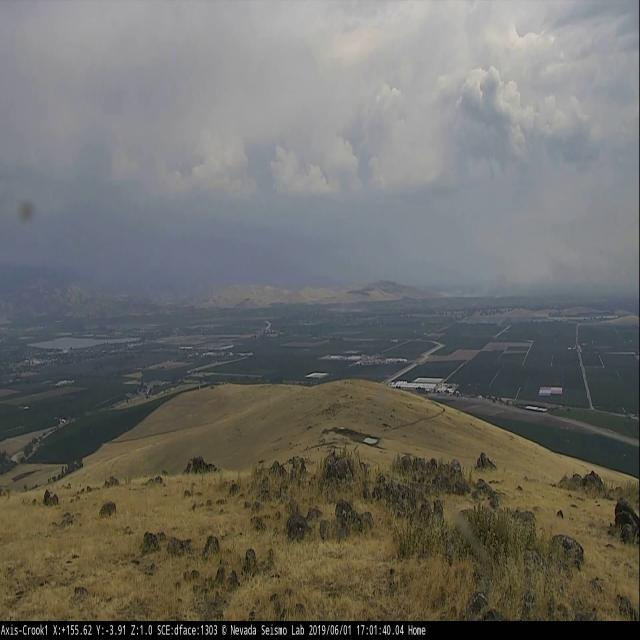smoke: (437, 215, 640, 299)
